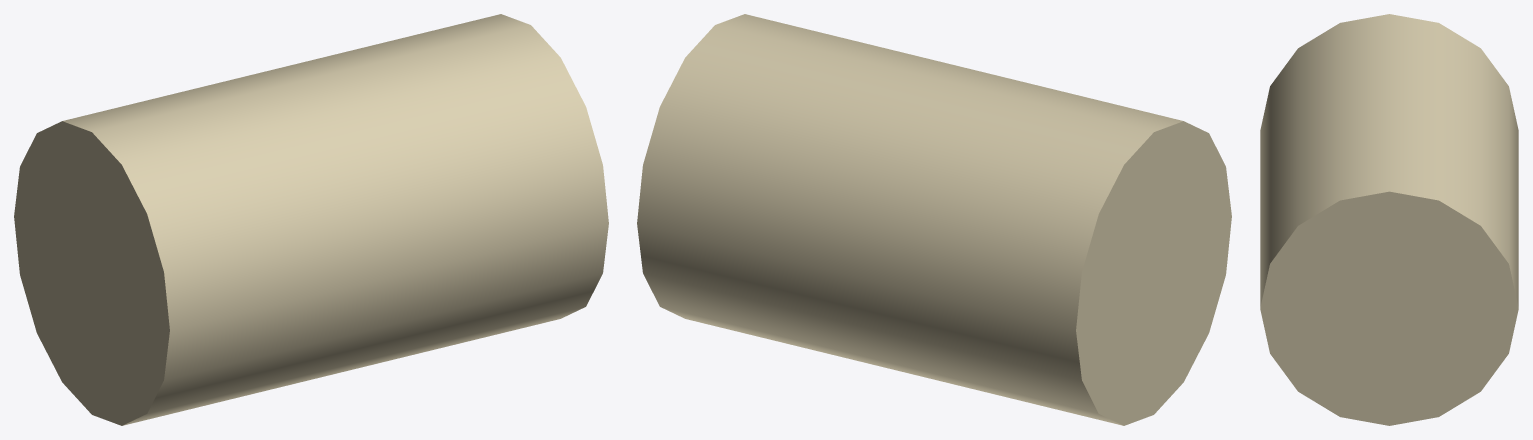
Rendered from hefe_pylon.obj.
The picture shows the model from 3 angles, left to right: view 1: azimuth 30°, elevation 25°; view 2: azimuth 150°, elevation 25°; view 3: azimuth 270°, elevation 25°; orthographic projection. The views are drawn at different scales.
Visible parts, largest first — view 1: hefe_pylon; view 2: hefe_pylon; view 3: hefe_pylon.
Part boxes in pixels (bbox=[...]): hefe_pylon: bbox=[14, 14, 608, 425]; hefe_pylon: bbox=[637, 14, 1231, 425]; hefe_pylon: bbox=[1260, 14, 1518, 425].
Size of the model in its own units: 0.65 by 0.4 by 0.4.
